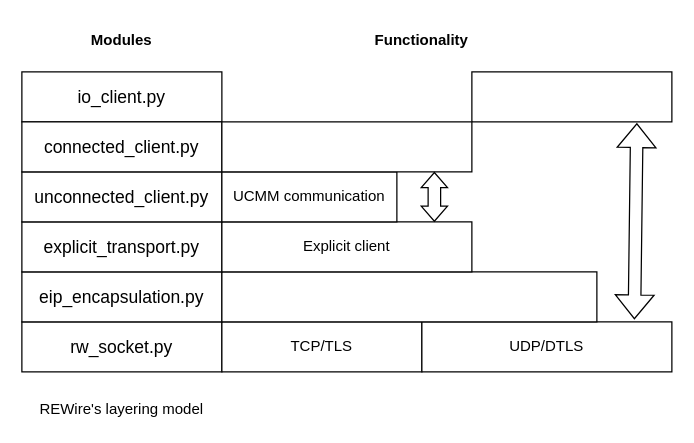
This 694x443 diagram has some shape labels left out. The shapes that lost their labels are listed below. From the top down, each one's centre as x and y in pixels, then its label:
At pixel 571 96: "Implicit class0/1 communication".
At pixel 346 146: "Connected class3 communication".
At pixel 409 296: "Encapsulation Services".
